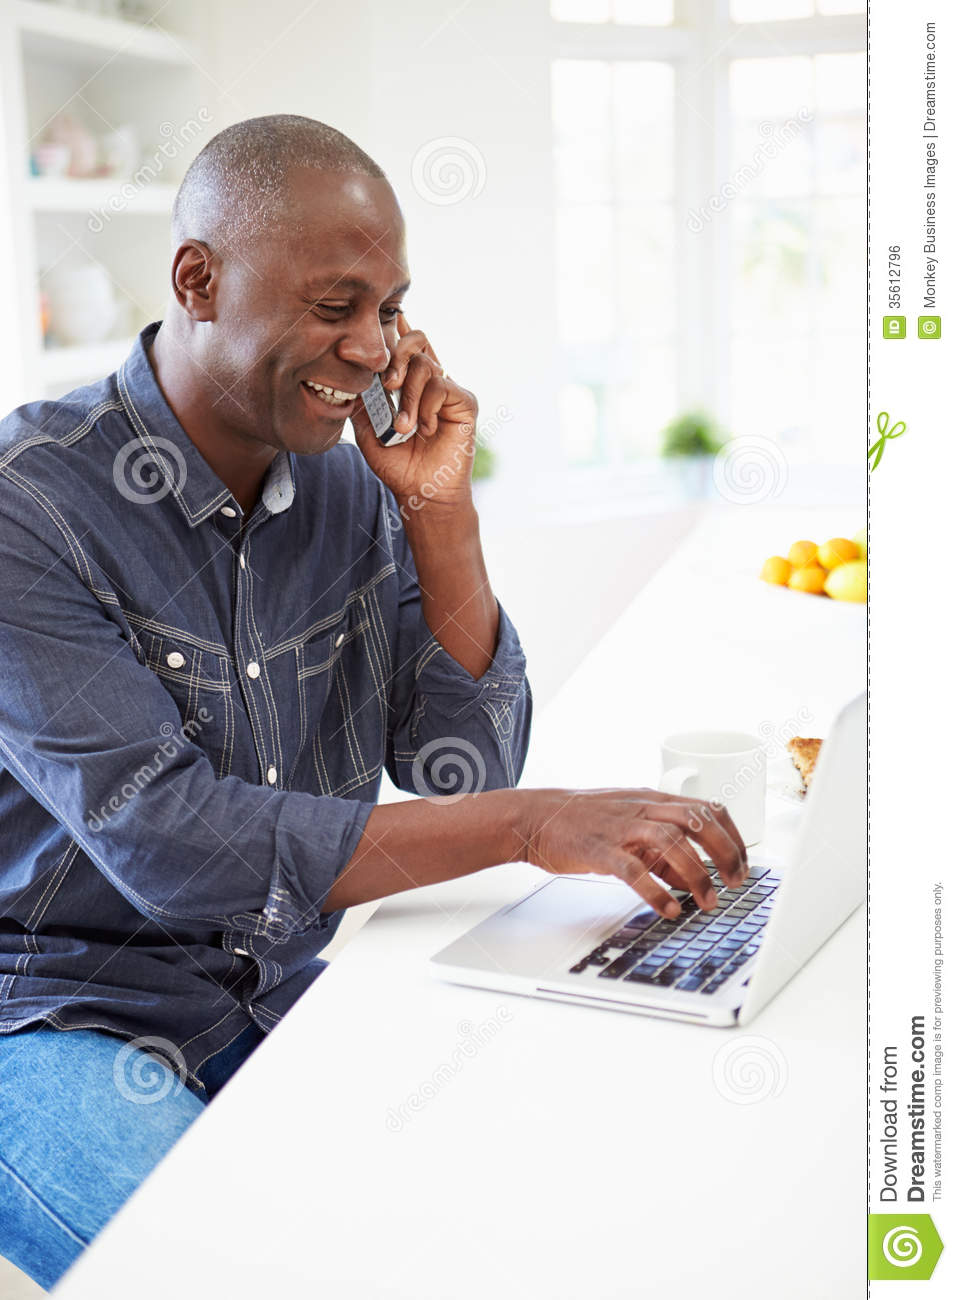talk: (268, 262, 478, 539)
